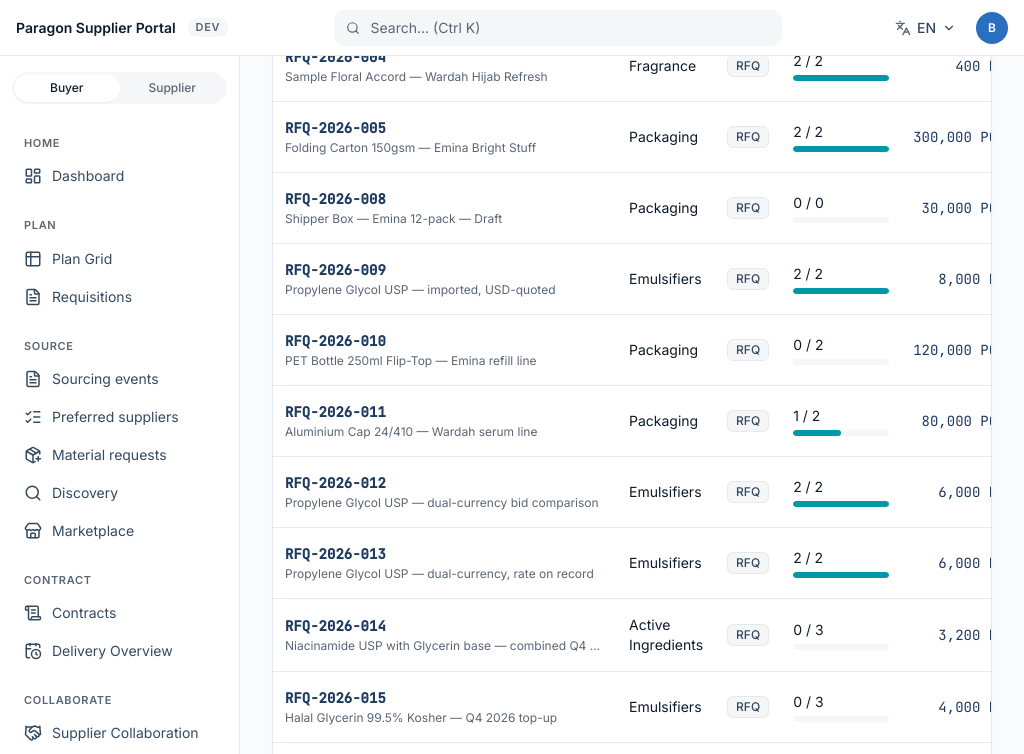
Test: §76 · the drawer — move to review (PER QUOTE) › HELD: a procurement seat keeps the move on the Submitted quote
(page scrolled)
Click the text "RFQ-2026-011" at (335, 412), box [285, 403, 386, 421]
(page scrolled)
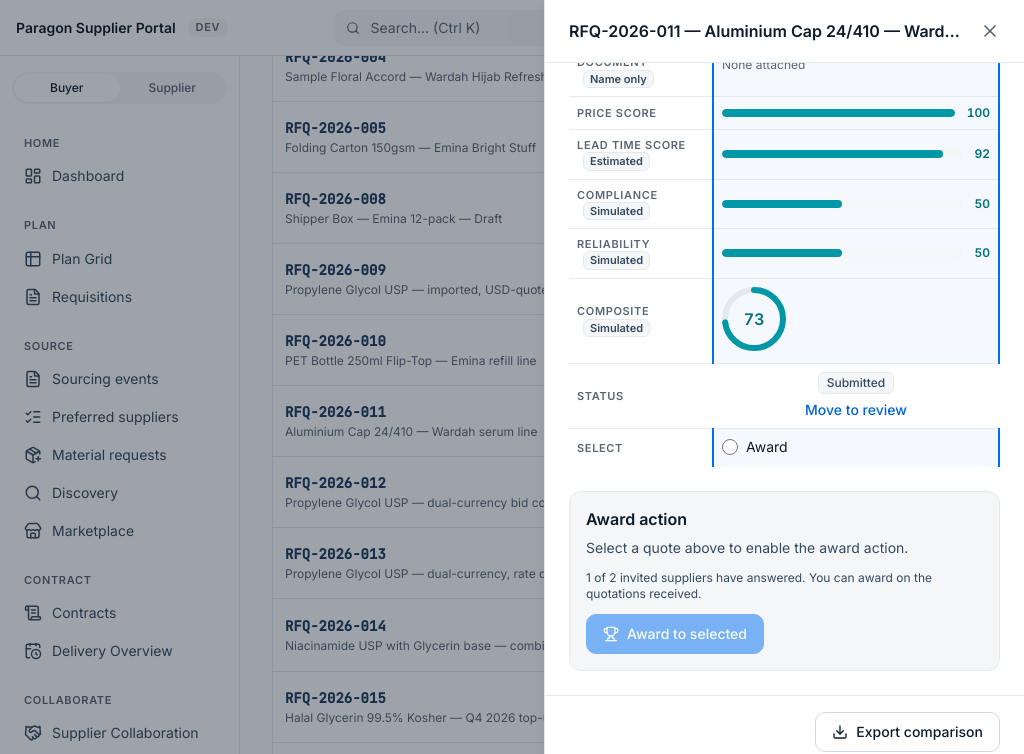
Check: the button "Move to review" is shown, box [805, 400, 907, 420]
